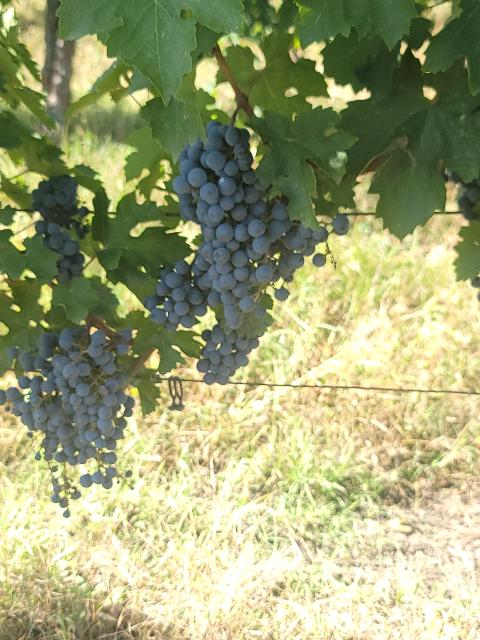grapes: (172, 121, 270, 274), (2, 332, 80, 509), (51, 326, 135, 489), (31, 175, 89, 284), (145, 260, 208, 332), (196, 324, 252, 385)
